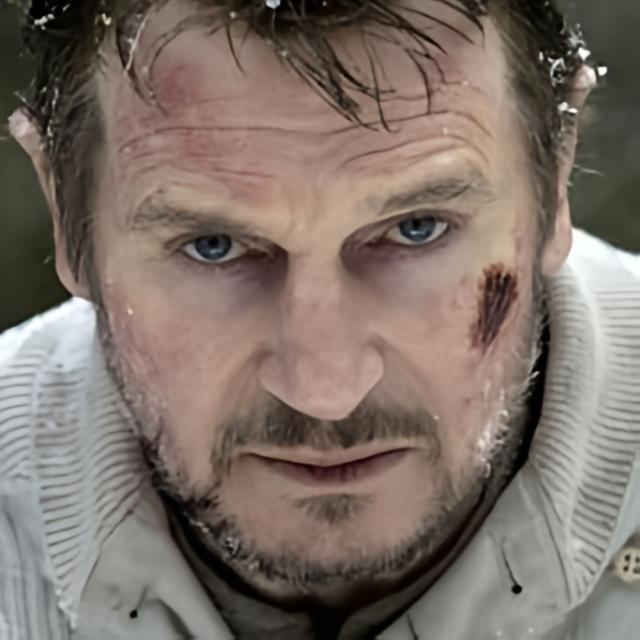anger: (90, 27, 540, 600)
